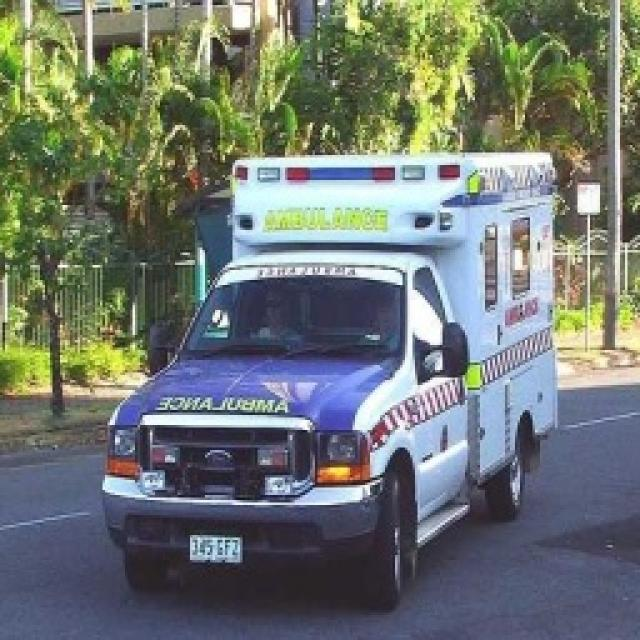emergency-vehicle: (97, 134, 564, 623)
